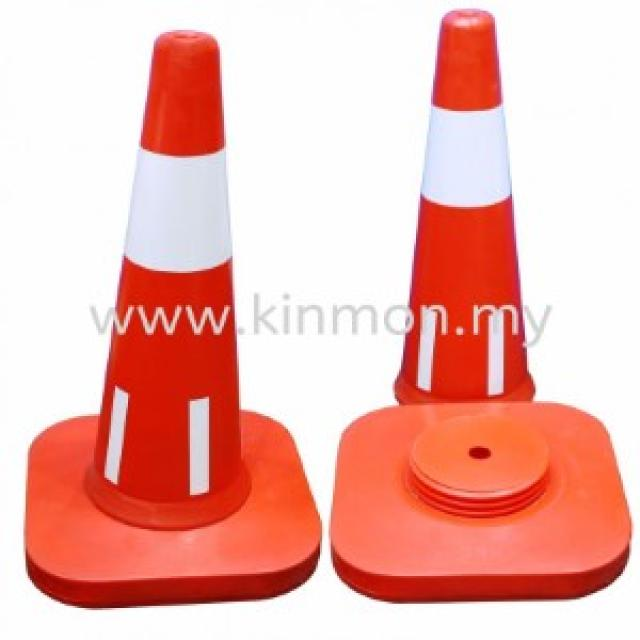Traffic Cone: (326, 4, 634, 602), (23, 28, 320, 608)
